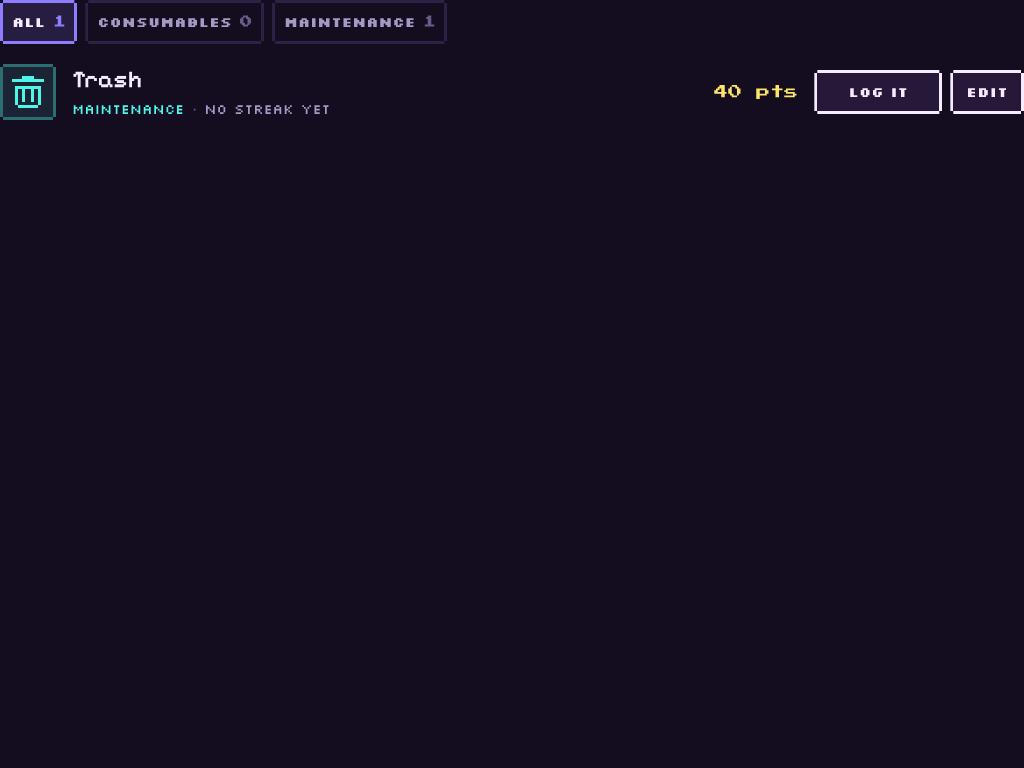
Test case: BountyBoard › edits a bounty without its points and cooldown, and links to more options
Click the button "Edit": (987, 92) [950,70,1023,114]
(page scrolled)
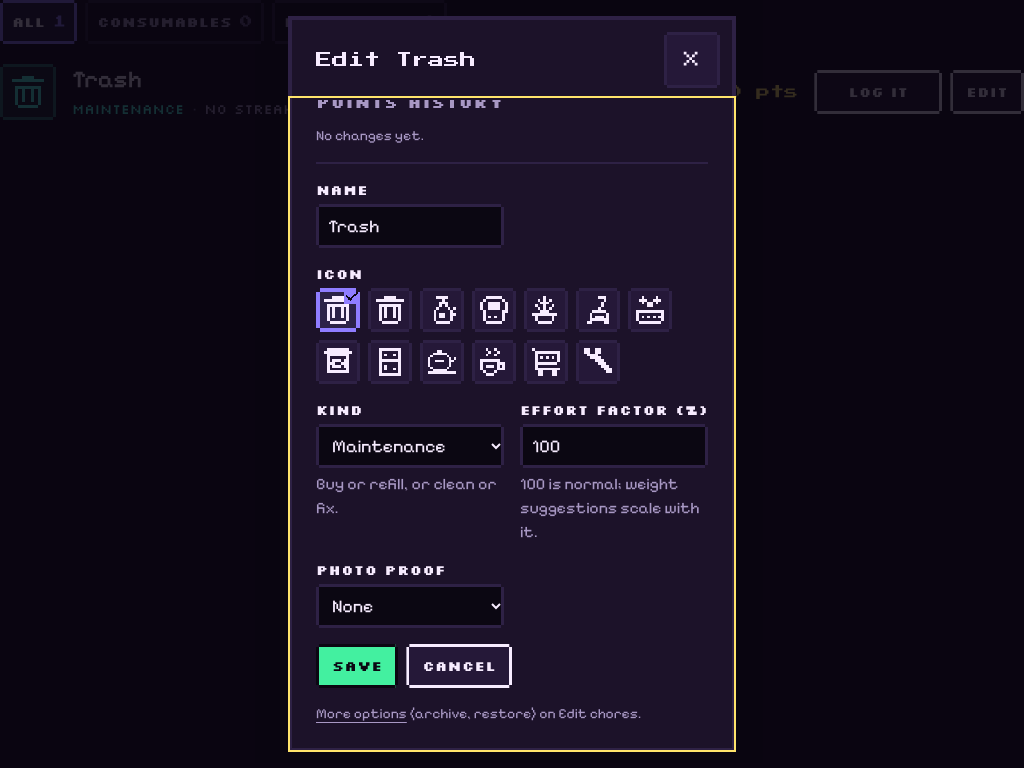
Check: the dialog named "Edit Trash" is shown, box [288,16,736,752]
Check: the field named "name" is shown, box [316,204,504,248]
Check: the dropdown named "kind" is shown, box [316,424,504,468]
